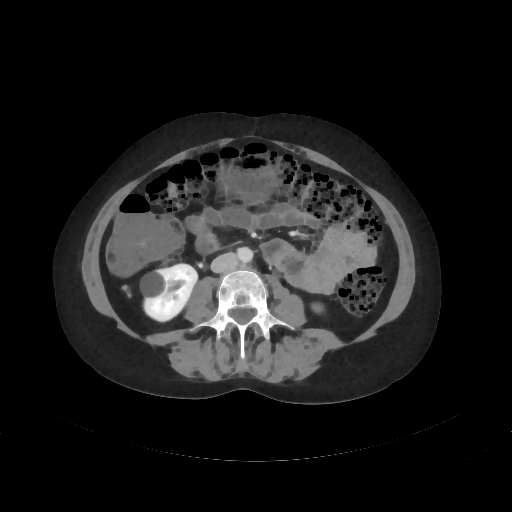Lesion: (135, 271, 167, 299)
